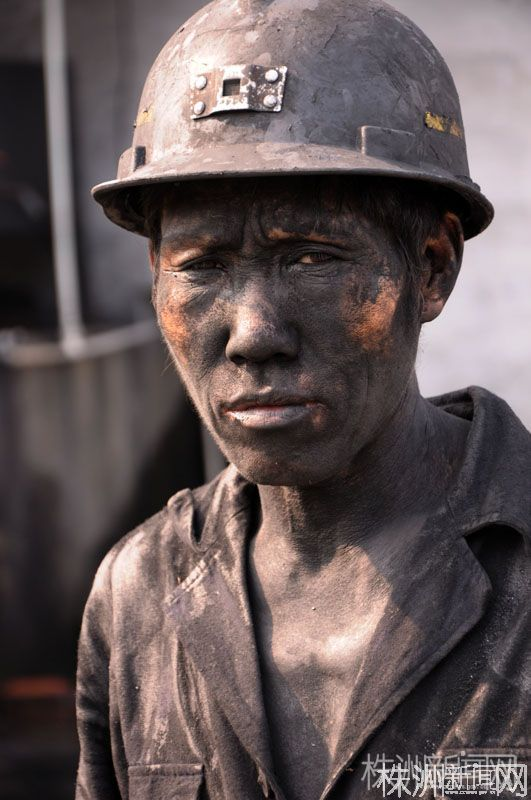helmet: (115, 2, 502, 459)
